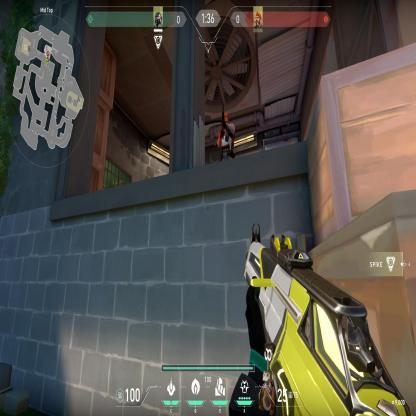enemy: (216, 110, 237, 164)
